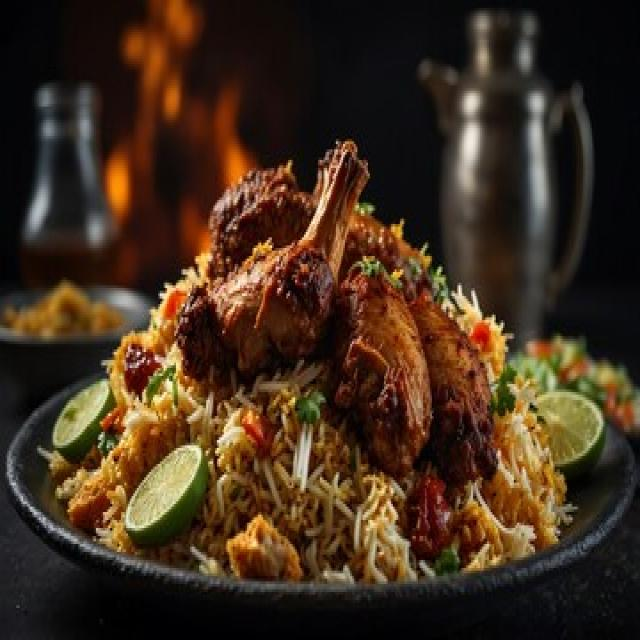BIRIYANI: (50, 139, 571, 581)
